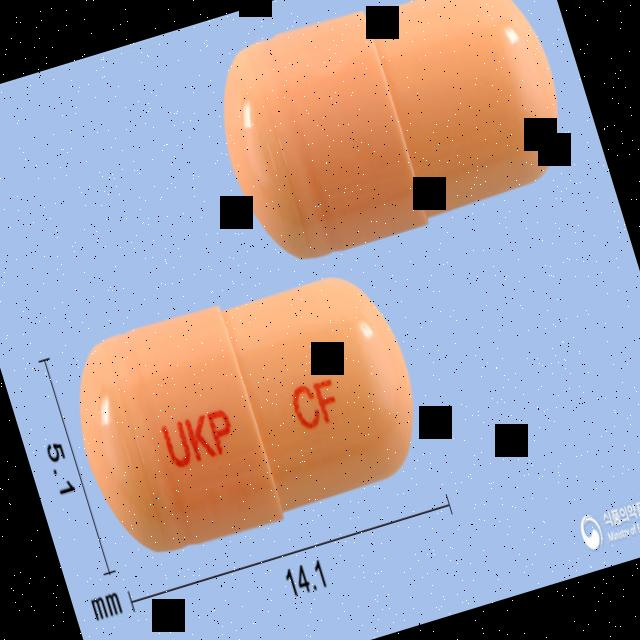Unifixime Cap: (52, 250, 439, 570)
